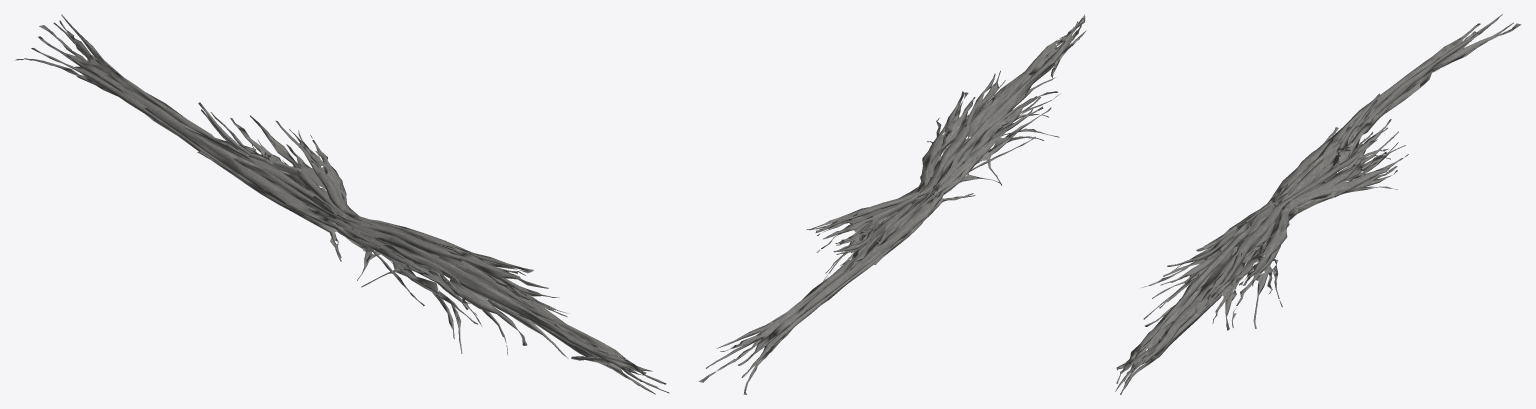
The model's file is nat-deadtree-b.glb.
The picture shows the model from 3 angles, left to right: view 1: azimuth 30°, elevation 25°; view 2: azimuth 150°, elevation 25°; view 3: azimuth 330°, elevation 25°; orthographic projection. The views are drawn at different scales.
Bounding box in the file's own units: 0.0776 × 0.0293 × 0.479.
Materials: 1 (1 with a texture image).
